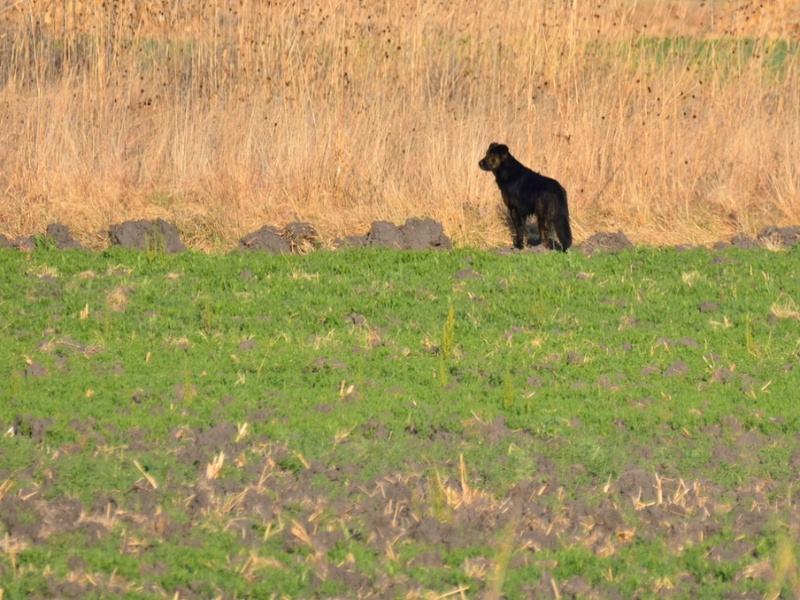dog: (479, 137, 579, 255)
